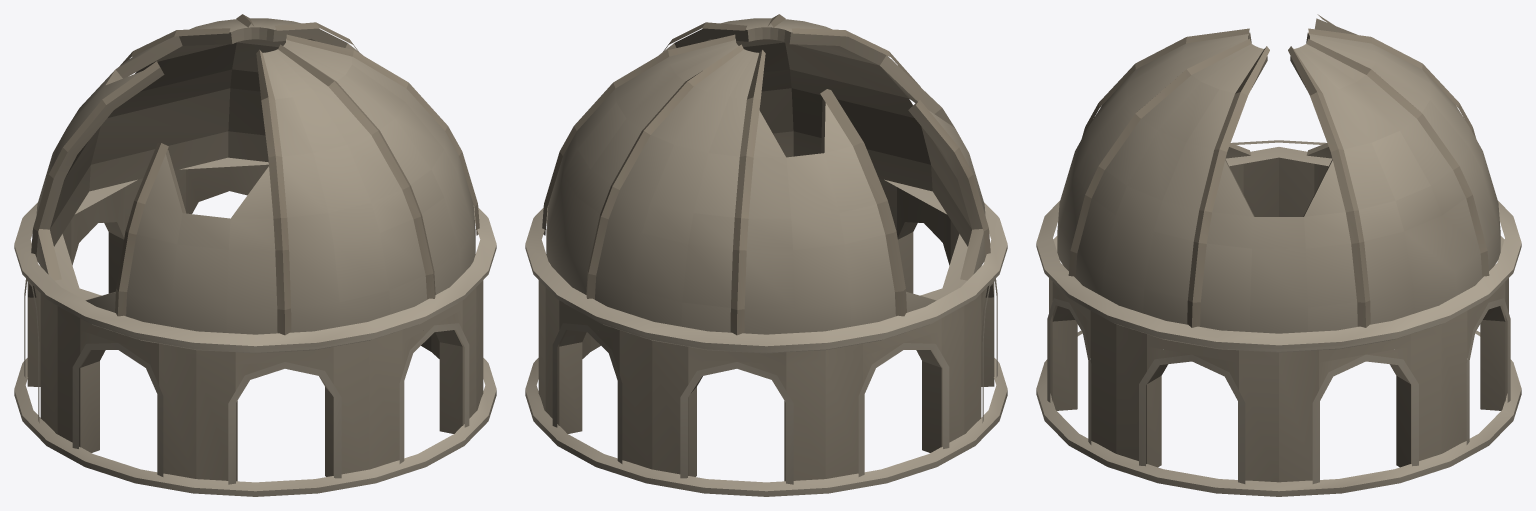
Rendered from dome.ruin_8.stone.glb.
The picture shows the model from 3 angles, left to right: view 1: azimuth 30°, elevation 25°; view 2: azimuth 150°, elevation 25°; view 3: azimuth 270°, elevation 25°; orthographic projection.
Parts seen in each view (by area): view 1: dome_ruin_8_stone; view 2: dome_ruin_8_stone; view 3: dome_ruin_8_stone.
Part boxes in pixels (x1,y1,x2,y2): dome_ruin_8_stone: [14, 14, 496, 496]; dome_ruin_8_stone: [525, 14, 1007, 496]; dome_ruin_8_stone: [1036, 14, 1521, 496].
Size of what is drawn, in the model's own units: 7.6 by 6.23 by 7.6.
